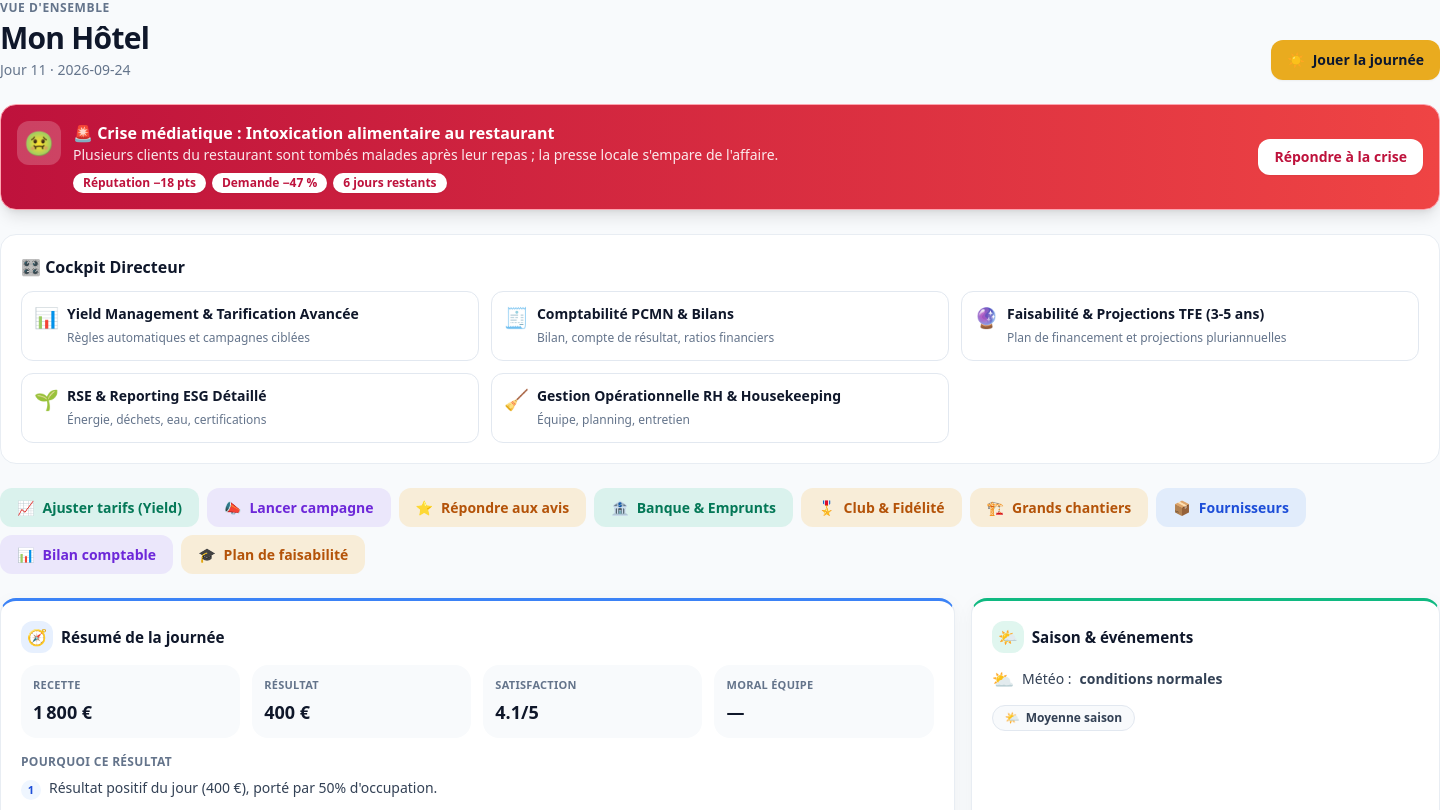
Test case: Dashboard / media crisis › opens the crisis desk from the banner
Click the button with test id "crisis-open" at [1341, 157], box [1258, 139, 1423, 175]
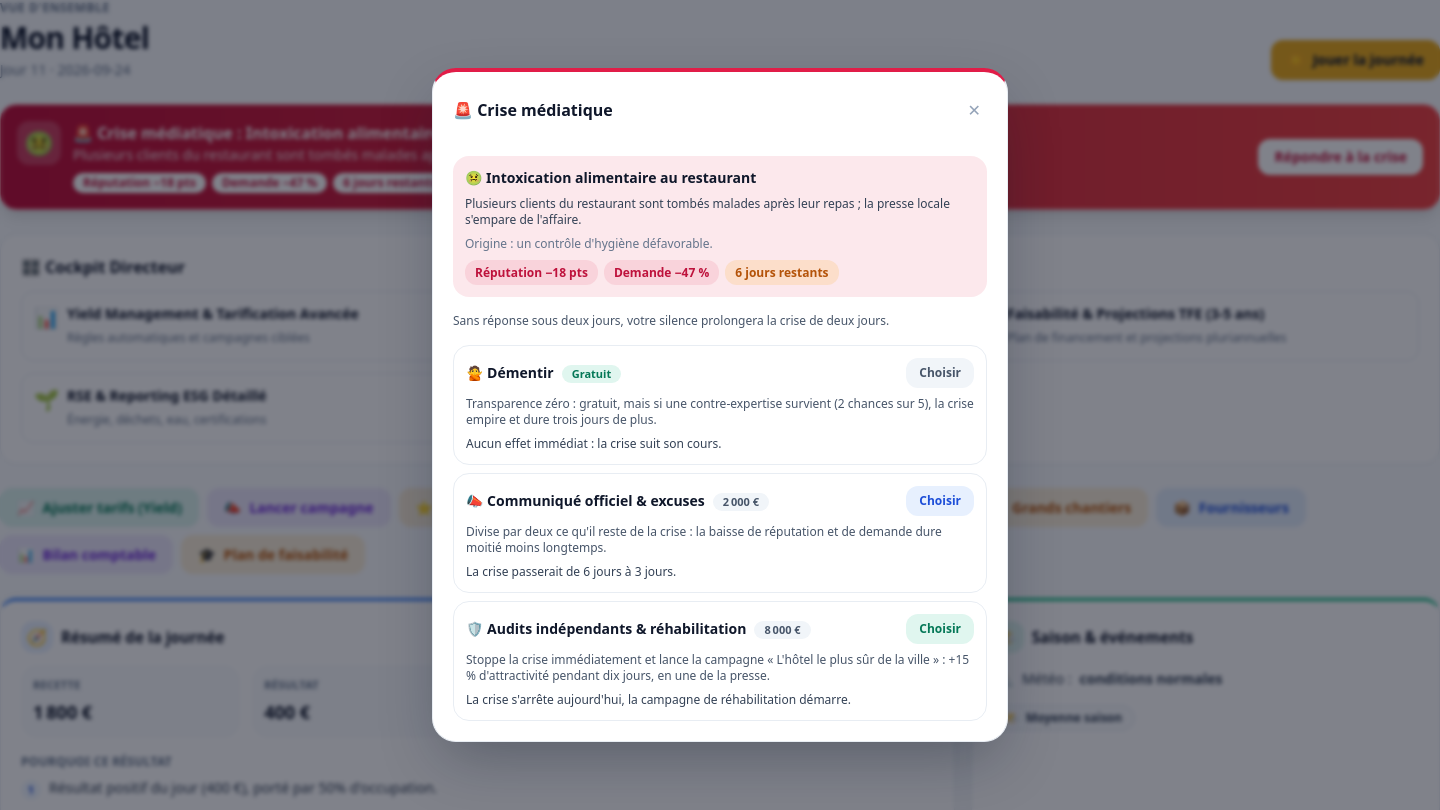
Now the dialog "Crise médiatique" is shown
